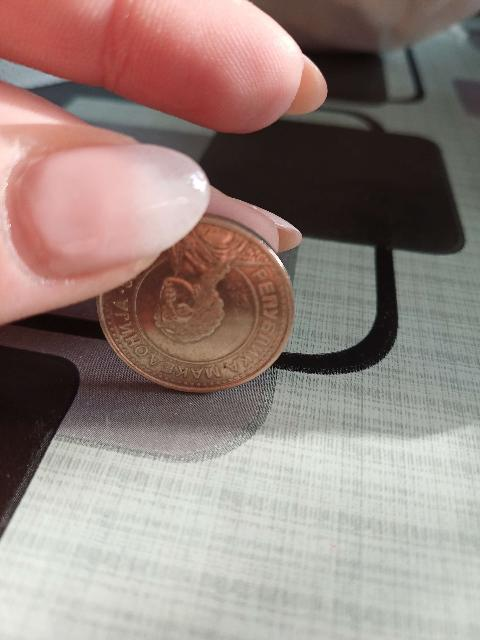50_coin: (101, 227, 291, 390)
